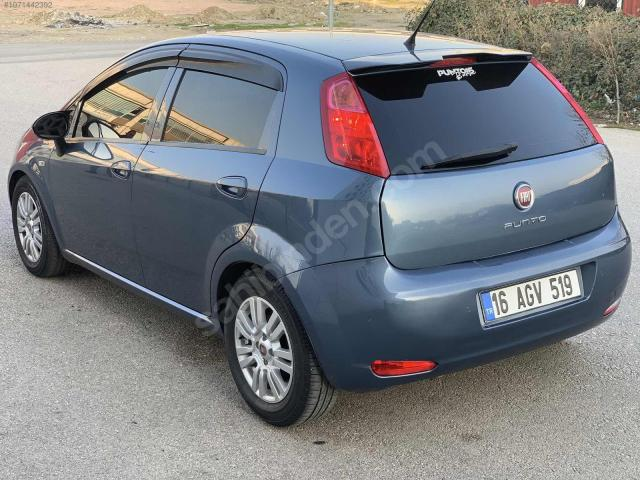plaka: (478, 269, 583, 323)
